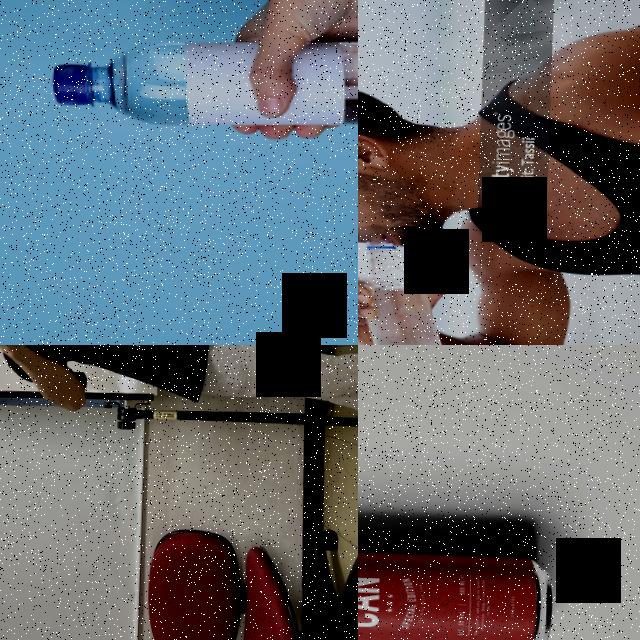bottle: (51, 24, 358, 140), (358, 234, 455, 345)
can: (358, 542, 553, 640)
